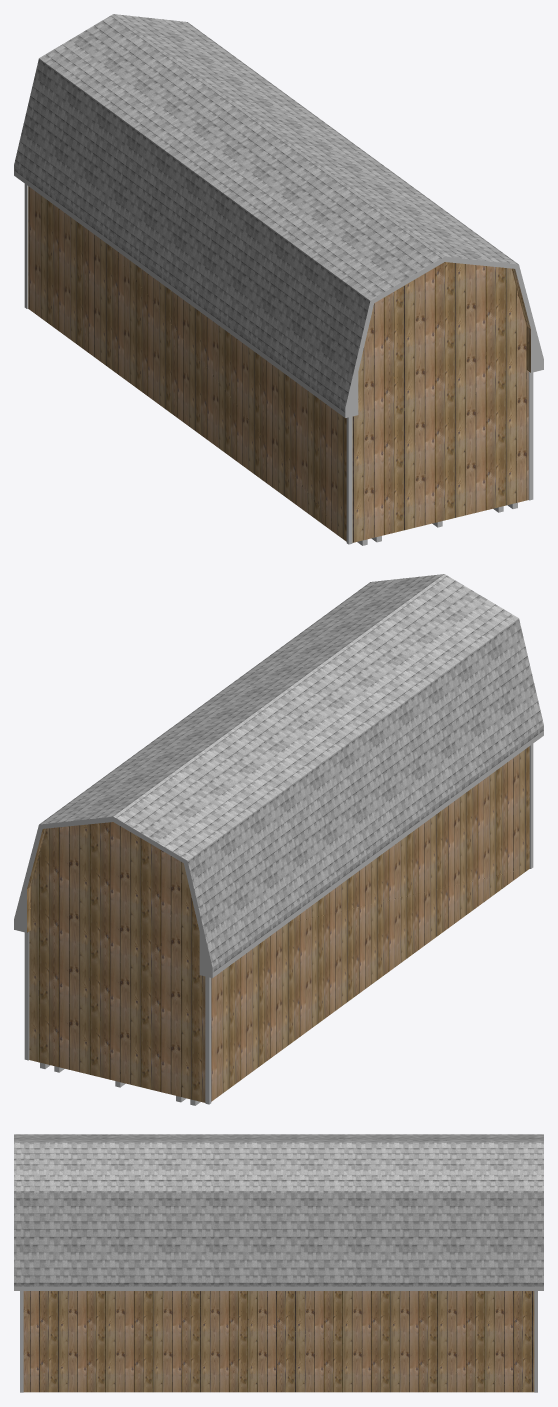
Rendered from Two Story Gambrel_12x36.obj.
3 views of the same model, one above another, from view 1: azimuth 30°, elevation 25°; view 2: azimuth 150°, elevation 25°; view 3: azimuth 270°, elevation 25° (orthographic). The views are drawn at different scales.
Visible parts, largest first — view 1: Roof, Shed, Sides, Trim; view 2: Roof, Shed, Sides, Trim; view 3: Roof, Shed, Sides, Trim.
Part boxes in pixels (x1,y1,x2,y2): Roof: [14, 14, 518, 412]; Shed: [28, 186, 530, 542]; Sides: [14, 170, 543, 417]; Trim: [24, 184, 533, 544]; Roof: [39, 574, 543, 972]; Shed: [27, 746, 529, 1102]; Sides: [14, 730, 543, 977]; Trim: [24, 744, 533, 1104]; Roof: [14, 1134, 543, 1286]; Shed: [23, 1291, 534, 1392]; Sides: [14, 1286, 543, 1290]; Trim: [20, 1291, 537, 1392].
Bounding box in the file's own units: 3.9 × 5.14 × 11.28.
